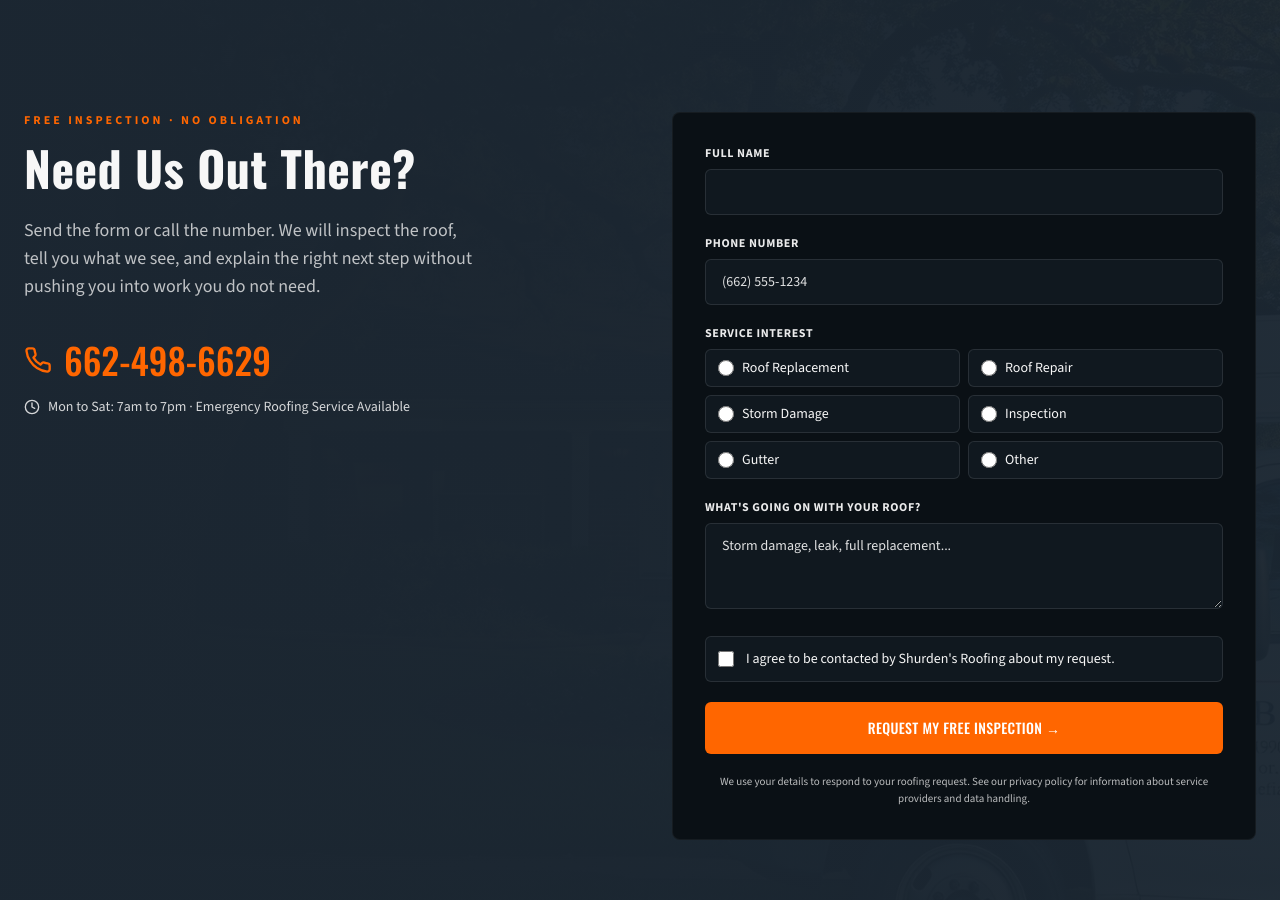
Test case: reports exactly one accepted request and blocks duplicate concurrent submissions
Type "Test Person" into the field labelled "Full Name".
click(964, 192); type("Test Person")  # box [705,169,1223,215]
Type "6625550123" into the field labelled "Phone Number".
click(964, 282); type("6625550123")  # box [705,259,1223,305]
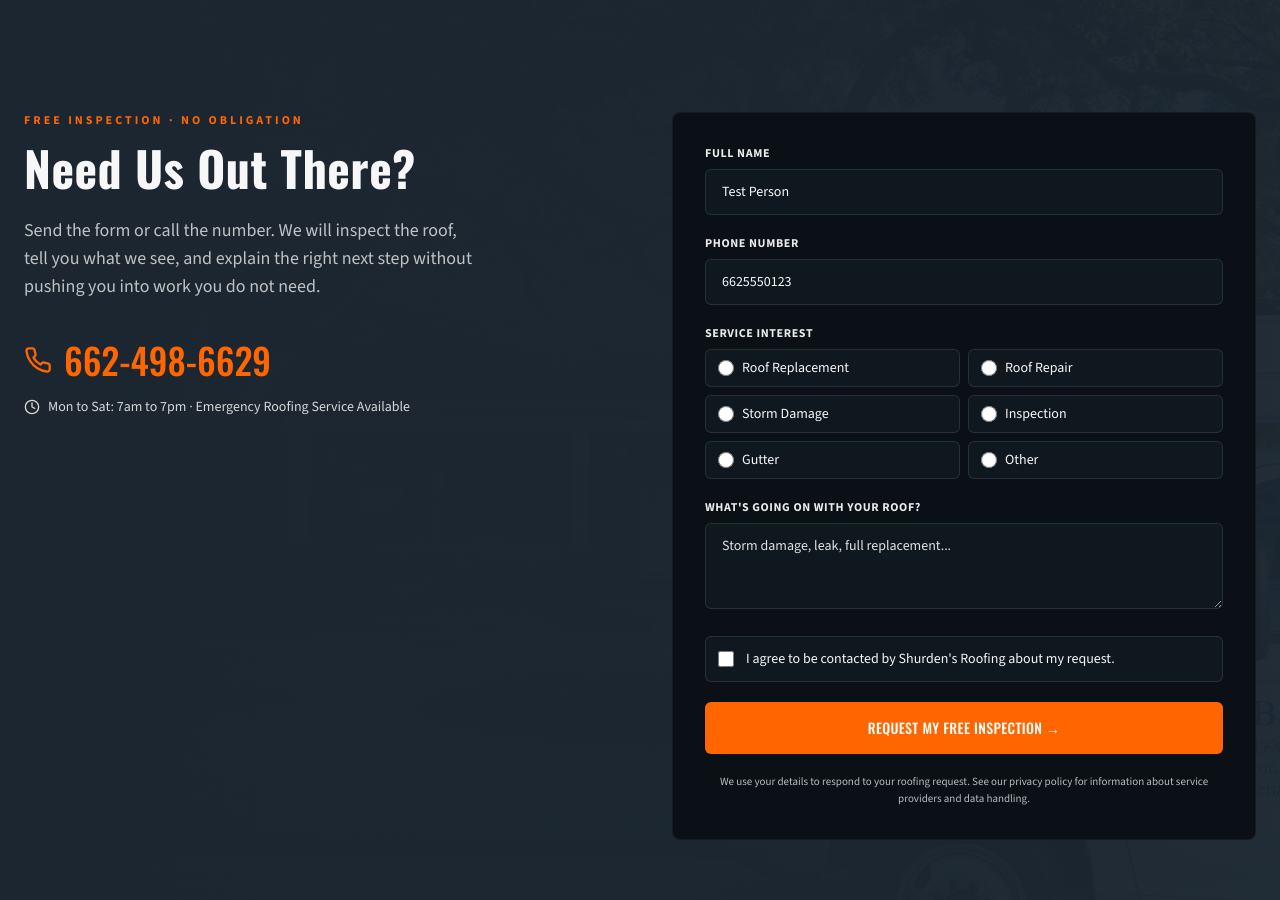
Click the radio button labelled "Inspection".
click(989, 414)  # box [981,406,997,422]
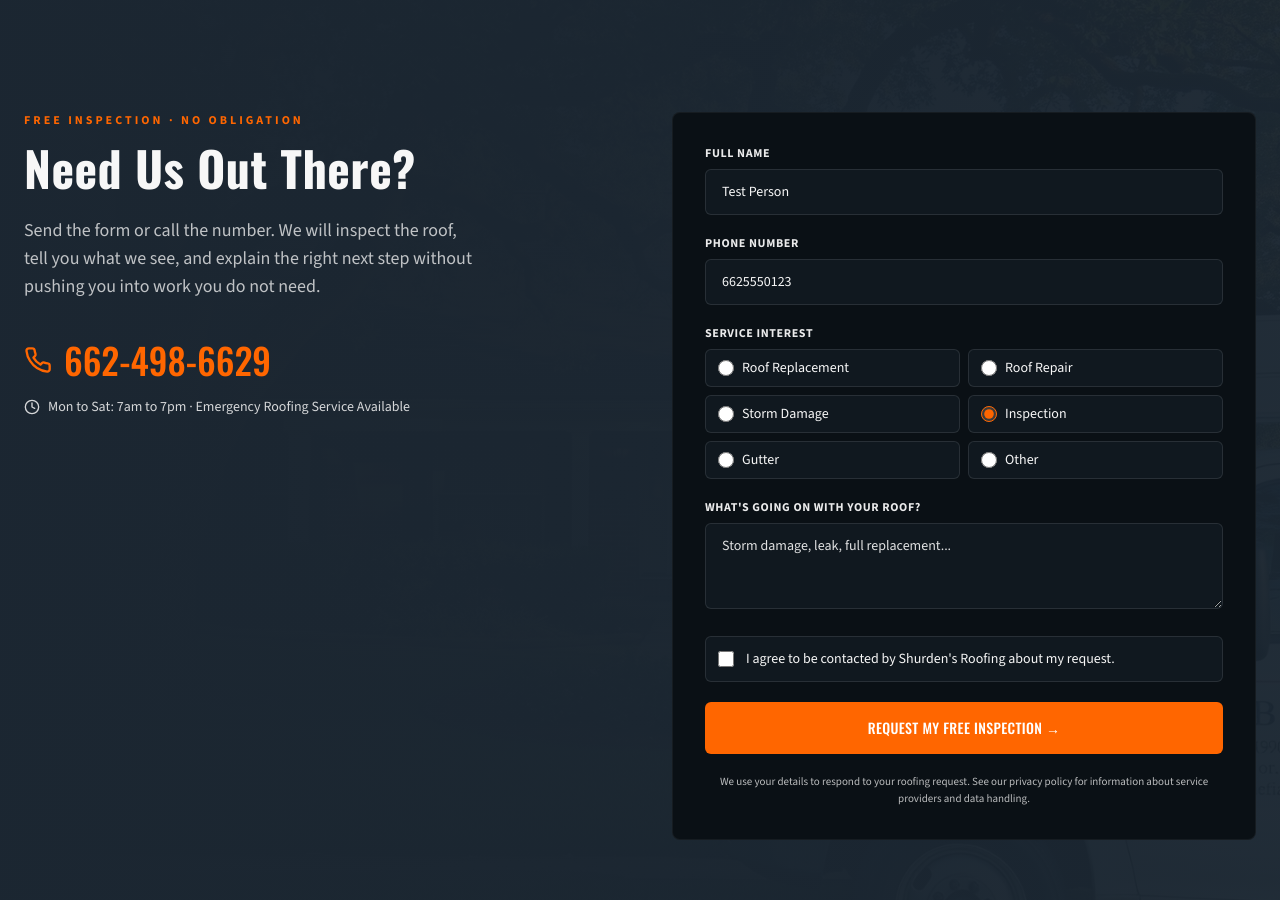
Type "Isolated automated test" into the text box labelled "What's going on with your roof?".
click(964, 566); type("Isolated automated test")  # box [705,523,1223,609]
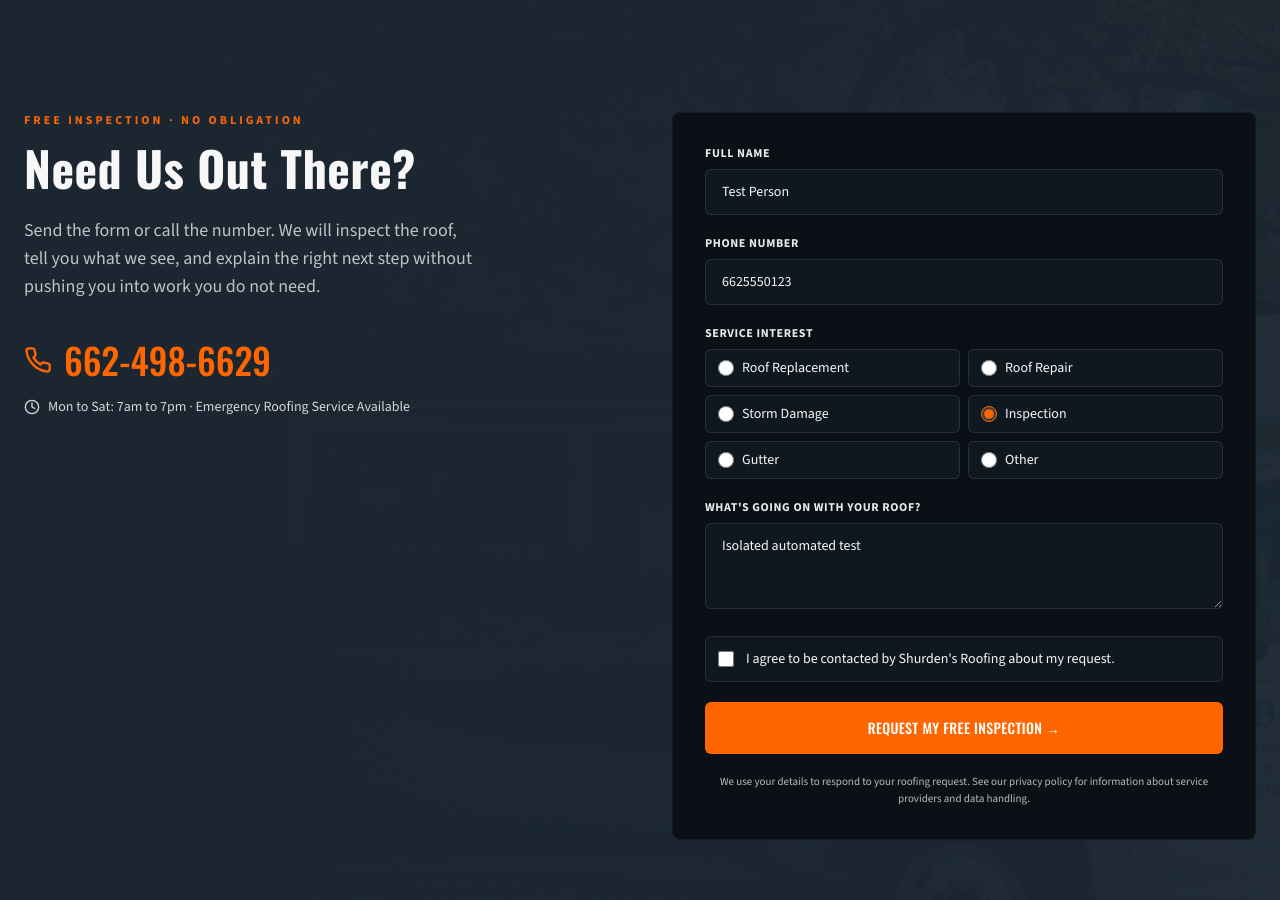
Click the checkbox.
click(726, 659)  # box [718,651,734,667]
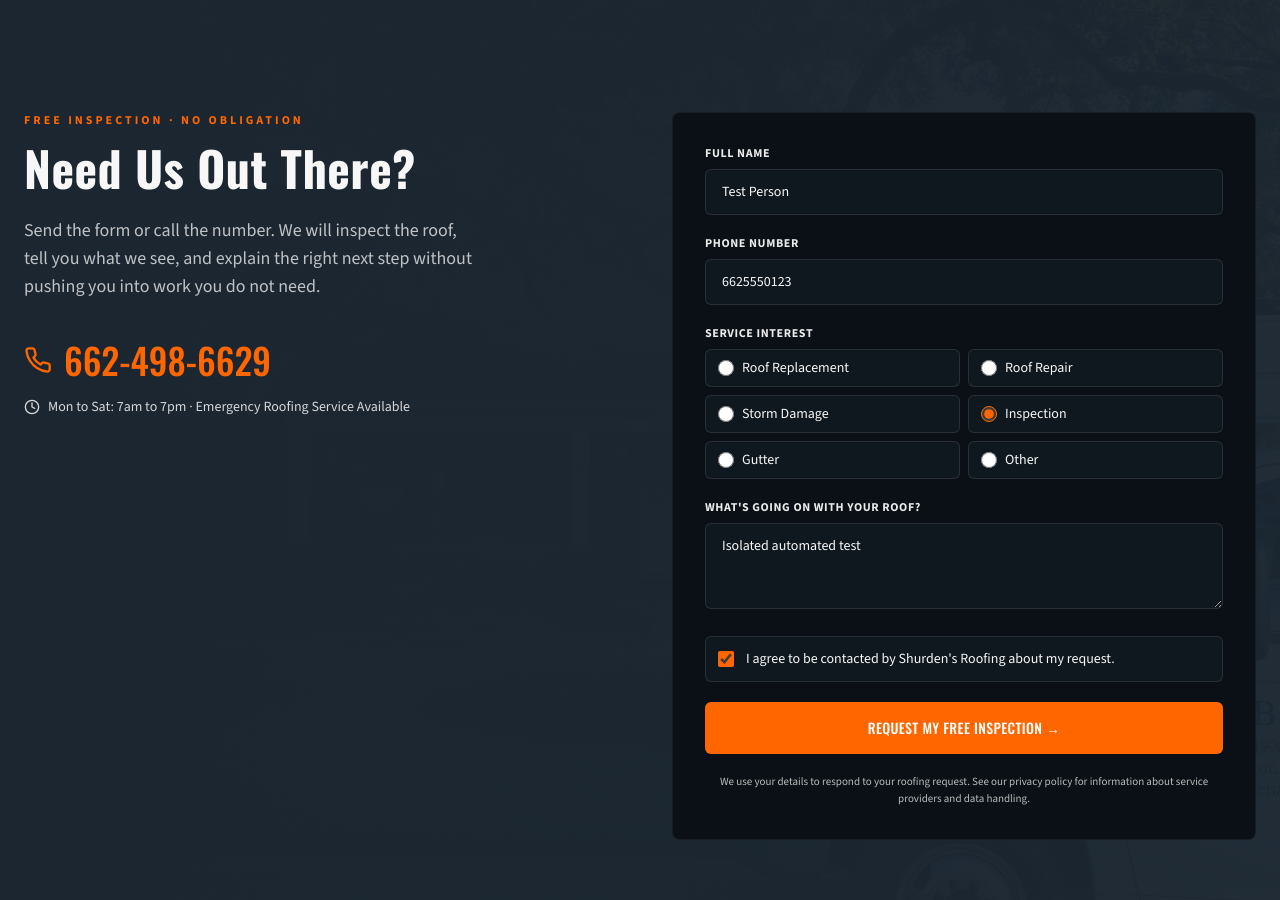
Submit the form named "Request My Free Inspection", box [672,112,1256,840]
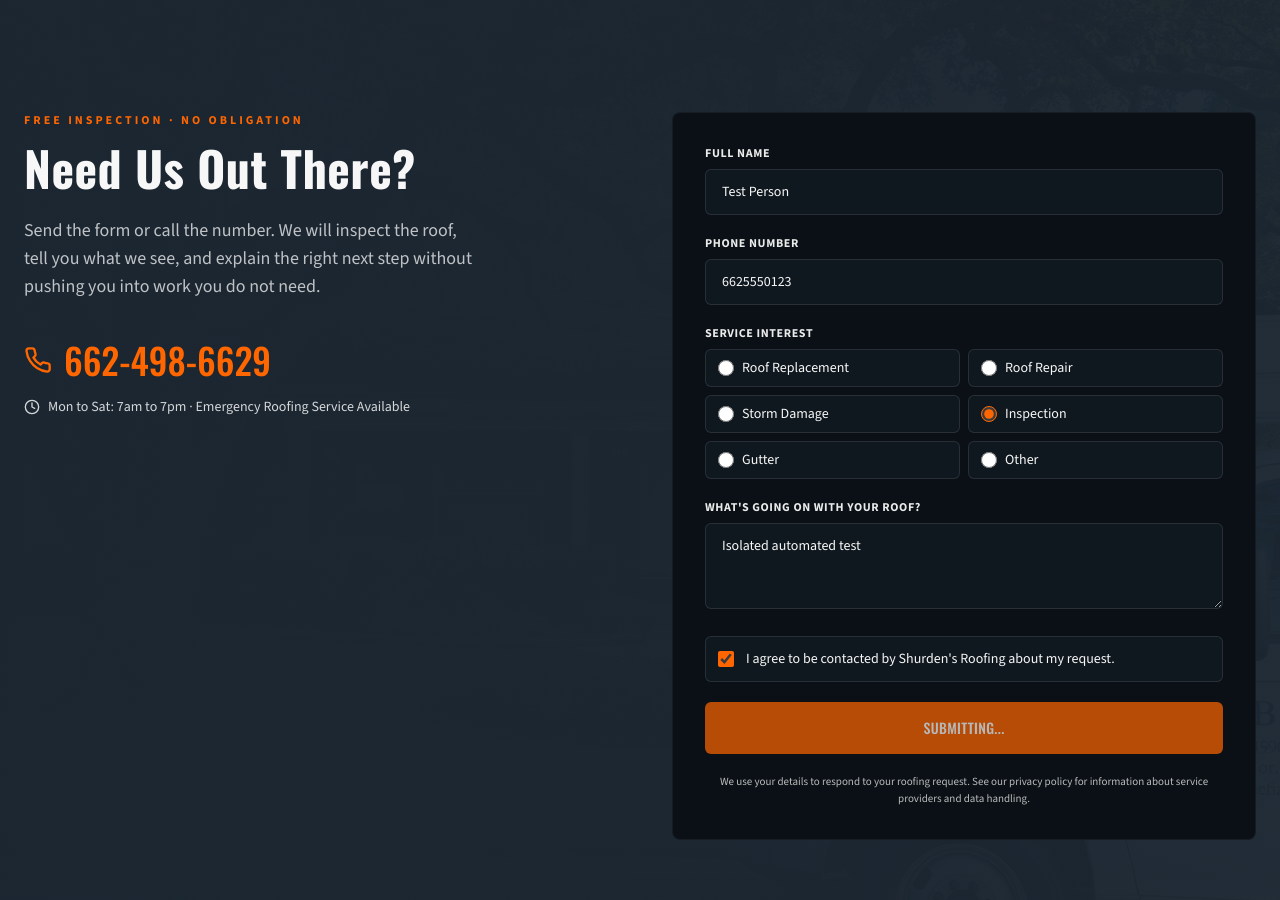
Submit the form named "Request My Free Inspection", box [672,112,1256,840]
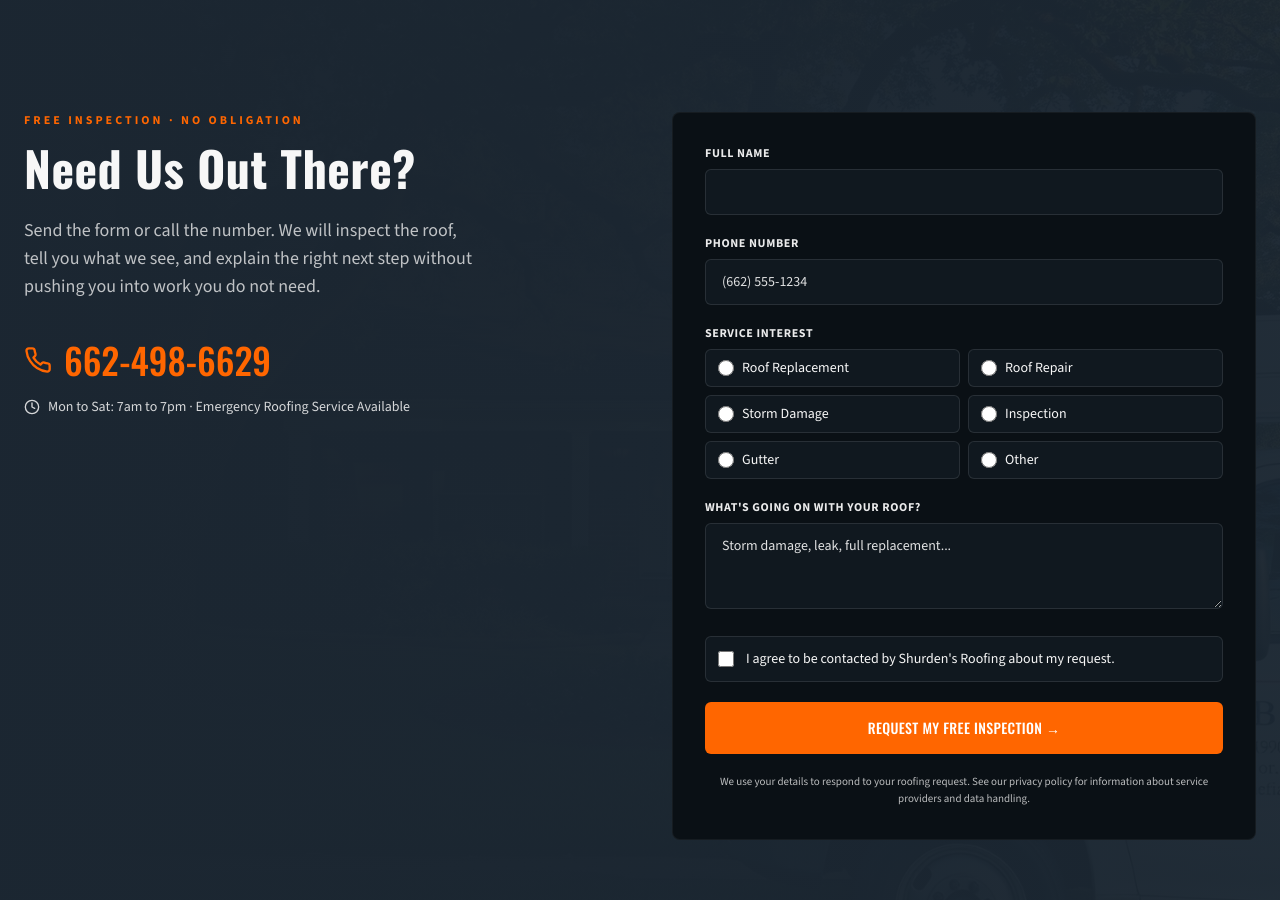
Expected: the field labelled "Full Name" is empty, [705,169,1223,215]
